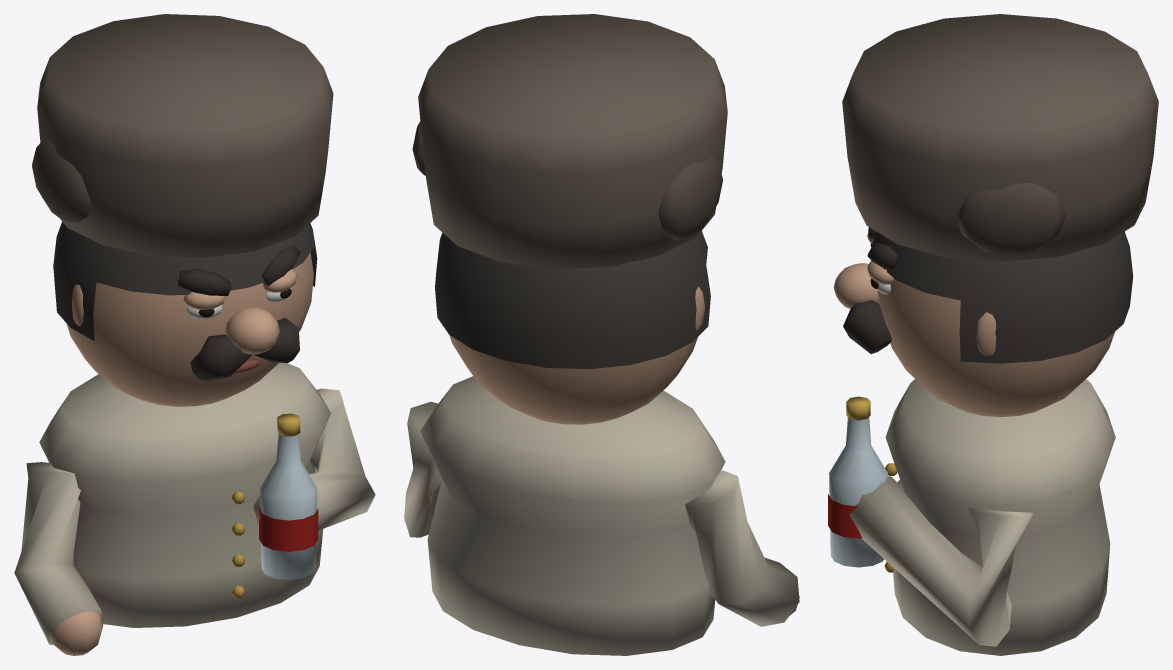
3 views of the same model, side by side, from view 1: azimuth 30°, elevation 25°; view 2: azimuth 150°, elevation 25°; view 3: azimuth 270°, elevation 25° (orthographic). The views are drawn at different scales.
Visible parts, largest first — view 1: fig_head, fig_body; view 2: fig_head, fig_body; view 3: fig_head, fig_body.
Boxes of the visible parts, bbox=[...] form: fig_head: bbox=[32, 14, 333, 406]; fig_body: bbox=[14, 362, 375, 655]; fig_head: bbox=[412, 14, 727, 424]; fig_body: bbox=[404, 376, 799, 655]; fig_head: bbox=[833, 14, 1158, 416]; fig_body: bbox=[828, 379, 1115, 655].
Size of the model in its own units: 0.8232 by 1.16 by 0.6517.
